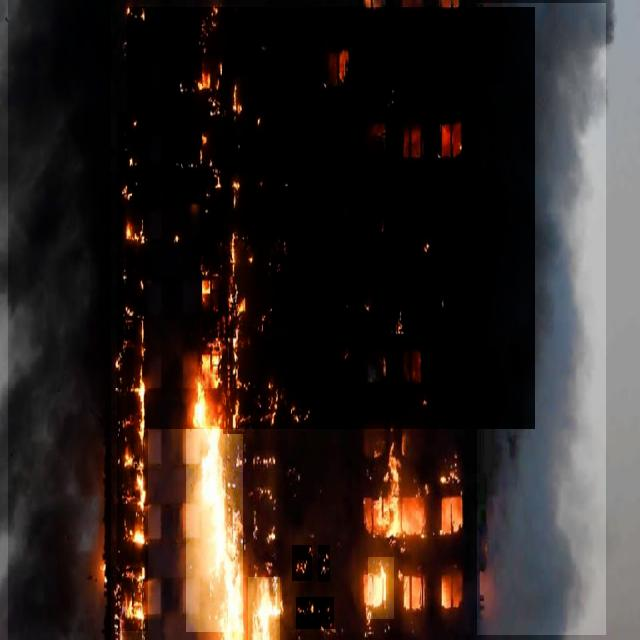Fire: (117, 112, 148, 631), (186, 375, 243, 632), (224, 229, 252, 434), (375, 442, 423, 553), (191, 57, 252, 116), (192, 143, 253, 201), (254, 450, 278, 556), (261, 384, 314, 425), (248, 577, 280, 640), (368, 558, 394, 620), (384, 120, 424, 160), (331, 38, 357, 94), (434, 120, 468, 158), (296, 597, 334, 629), (292, 546, 312, 582), (405, 346, 423, 383), (318, 545, 330, 582), (395, 308, 407, 332)
Smoke: (127, 7, 535, 429), (477, 3, 606, 635), (8, 0, 111, 640)
